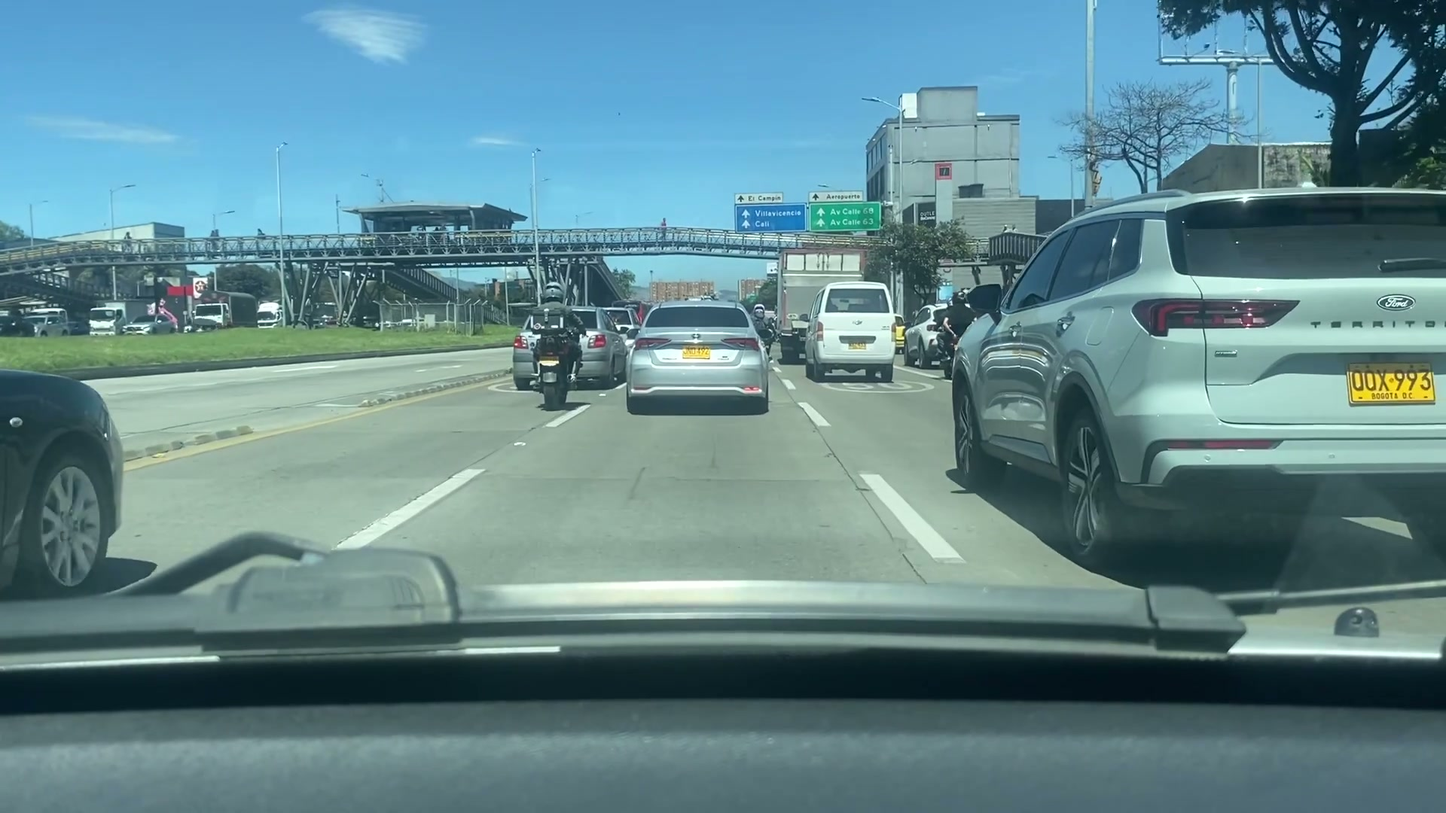bus: (804, 283, 897, 380)
car: (946, 185, 1446, 558), (0, 356, 128, 598), (625, 301, 770, 413), (511, 308, 627, 387), (902, 302, 950, 369)
motorcycle: (527, 342, 582, 410)
person: (531, 279, 582, 397), (937, 285, 974, 357)
truck: (777, 241, 868, 358)
